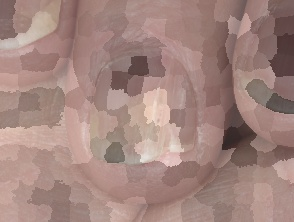Nail_psoriasis: (72, 37, 208, 176), (233, 4, 294, 119), (0, 0, 71, 56)
